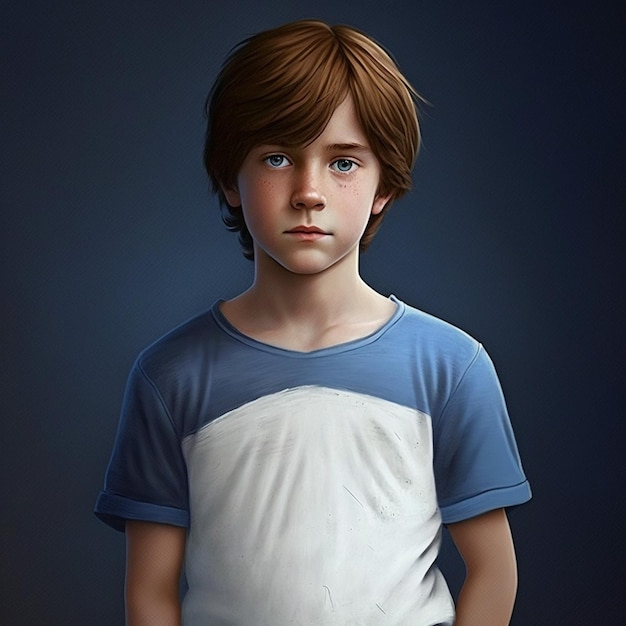teen: (175, 32, 441, 315)
